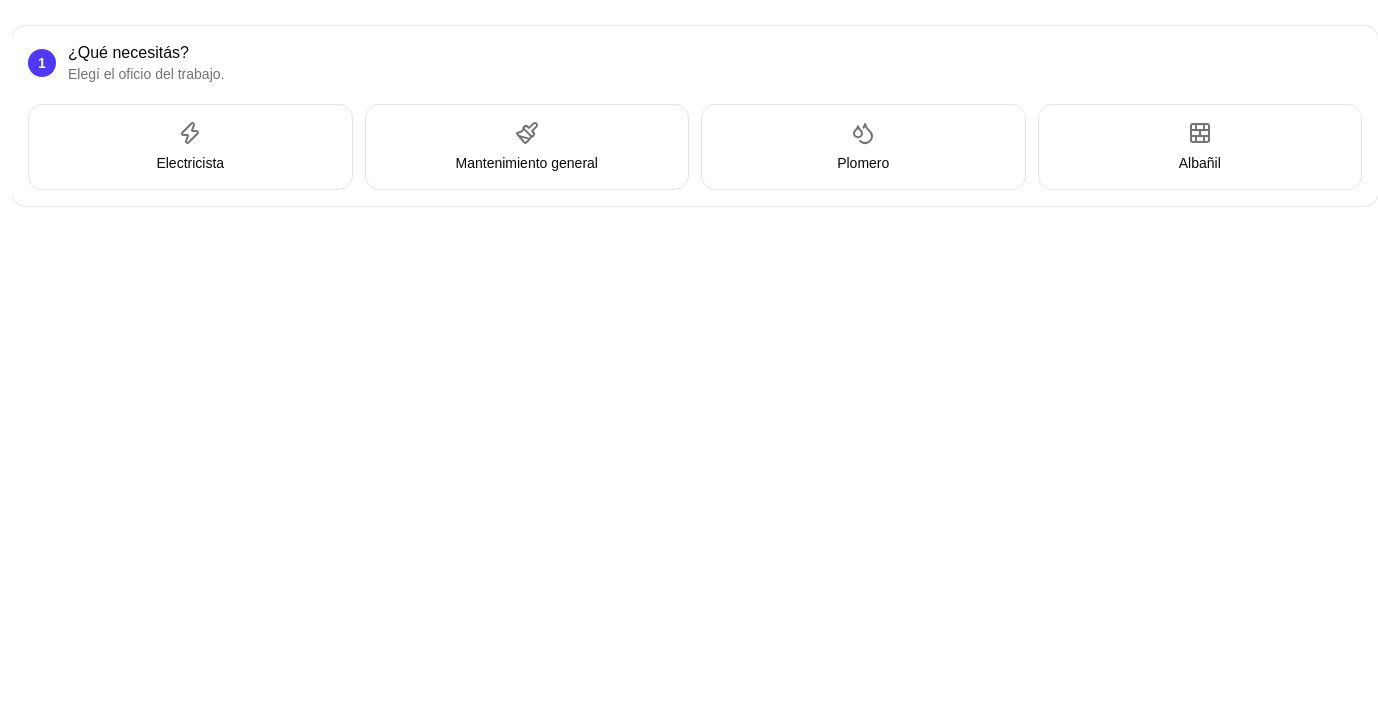
Test case: Booking › explains when the slot was taken in the meantime, and reloads the slots
The width and height of the screenshot is (1378, 710).
Click the button "Plomero" at (863, 147), box 701,104 -> 1026,190
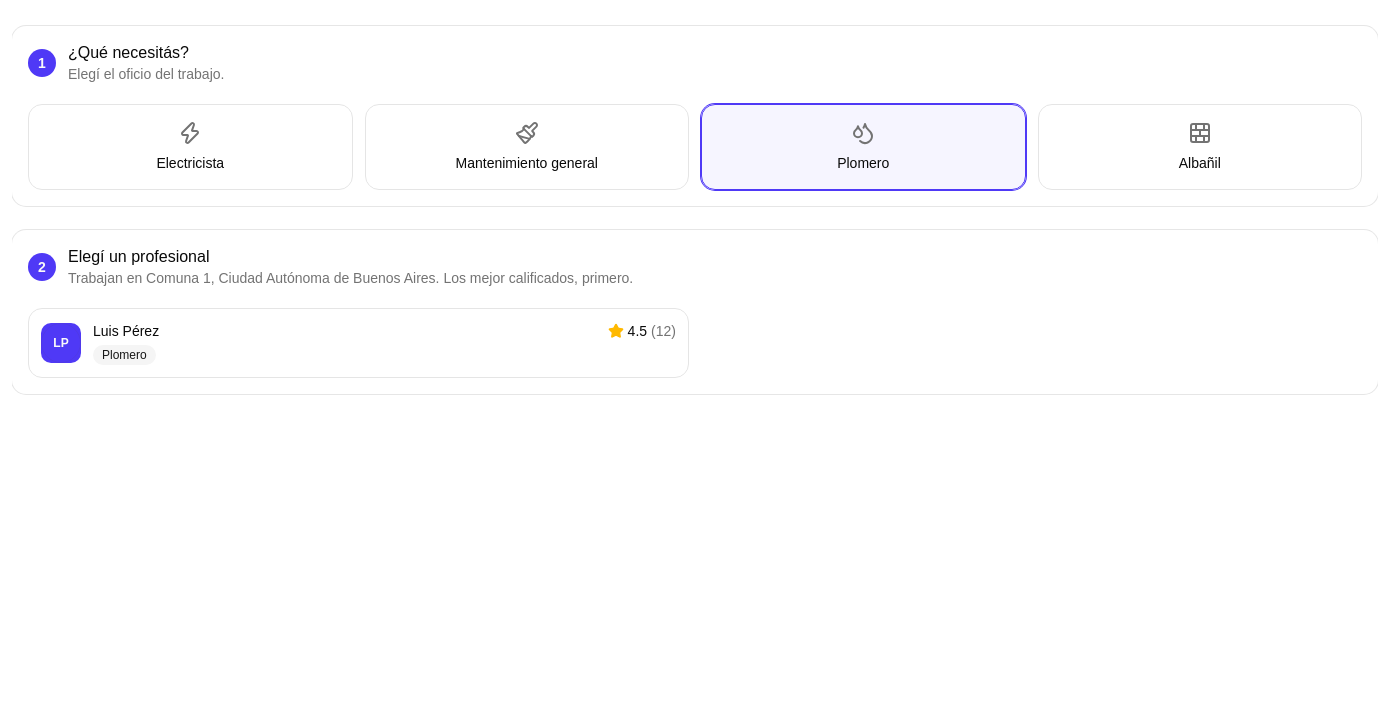
Click the button "LP Luis Pérez 4.5 (12) Plomero" at (61, 343), box 28,308 -> 689,378
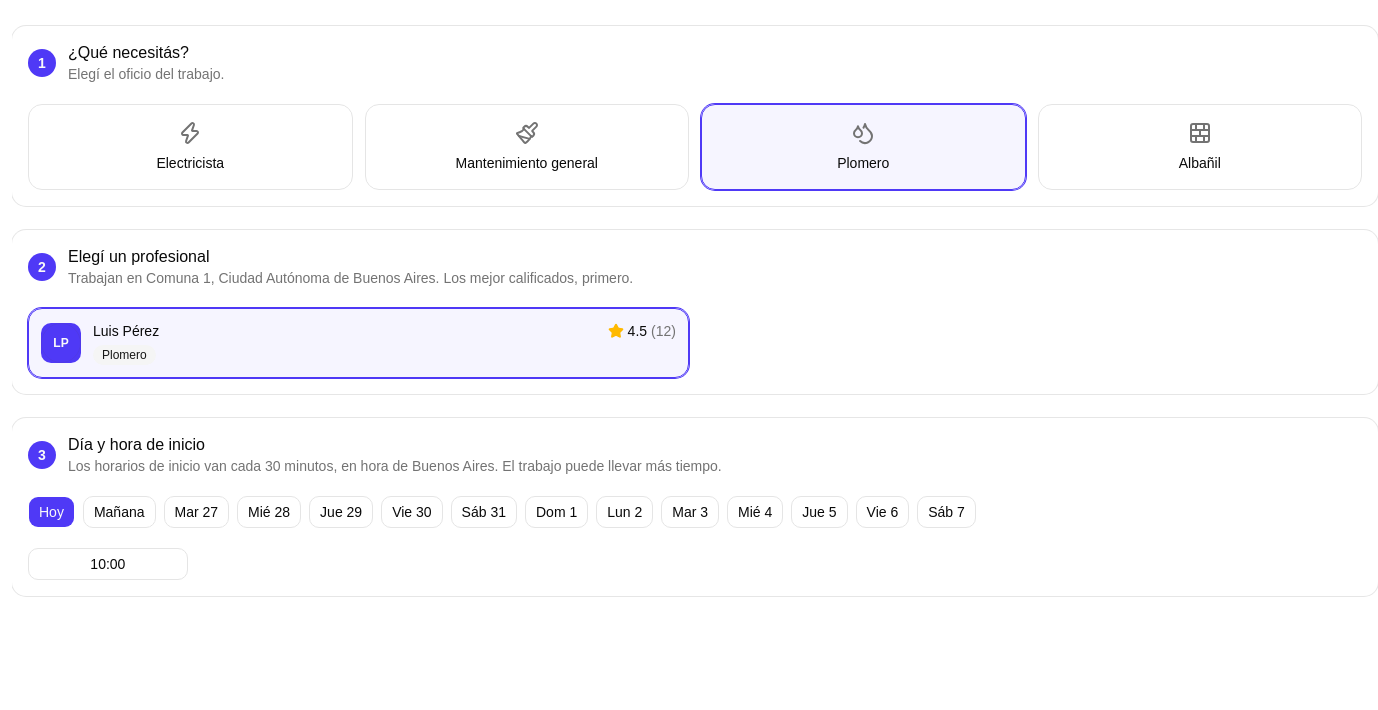
Click the button "10:00" at (108, 564), box 28,548 -> 188,580
(page scrolled)
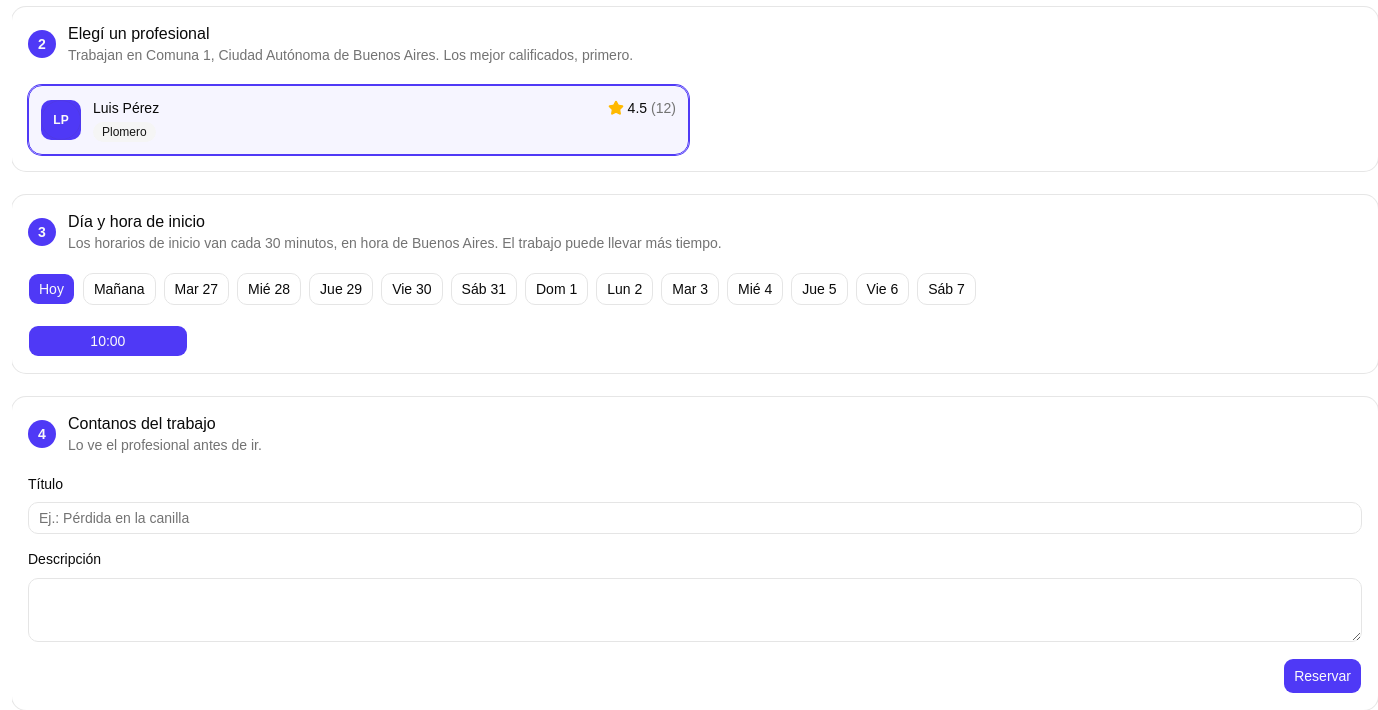
Type "Pérdida en la canilla" into the field labelled "Título" at (695, 518), box 28,502 -> 1362,534
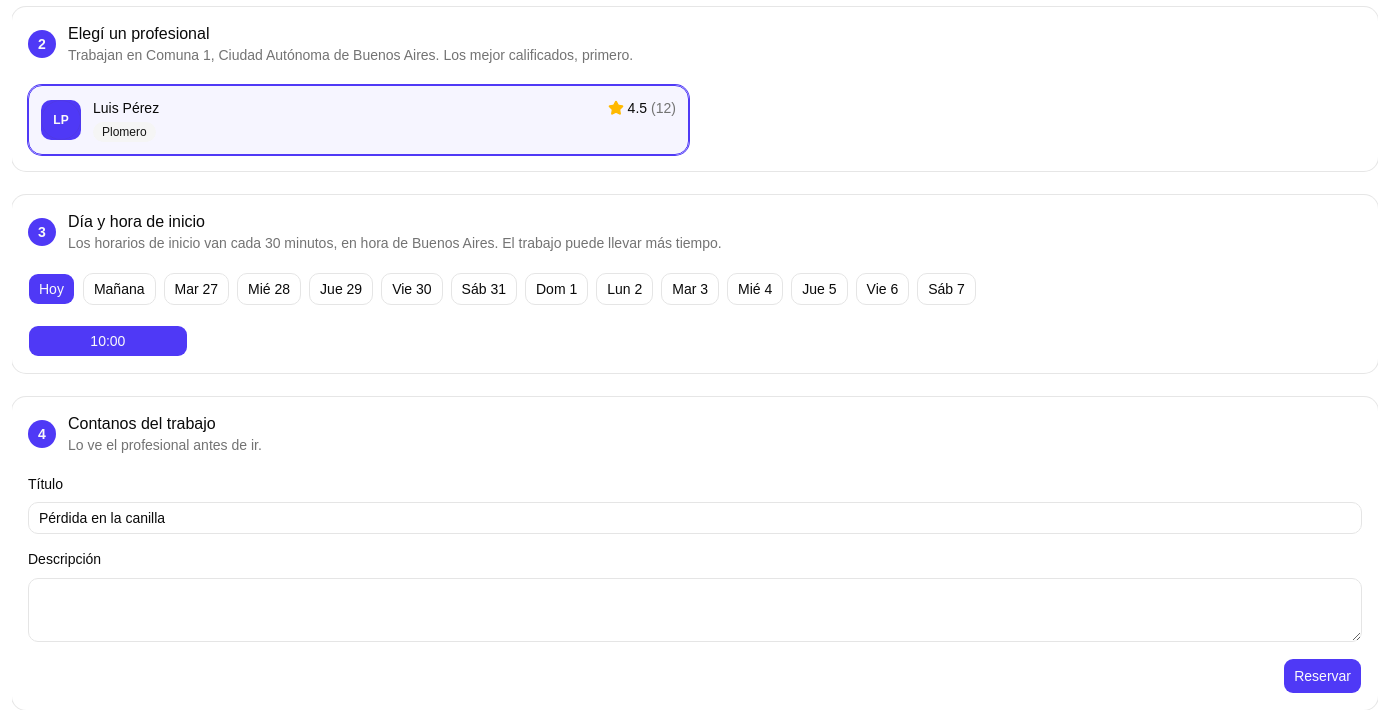
Type "Gotea la canilla de la cocina" into the text box labelled "Descripción" at (695, 610), box 28,578 -> 1362,642
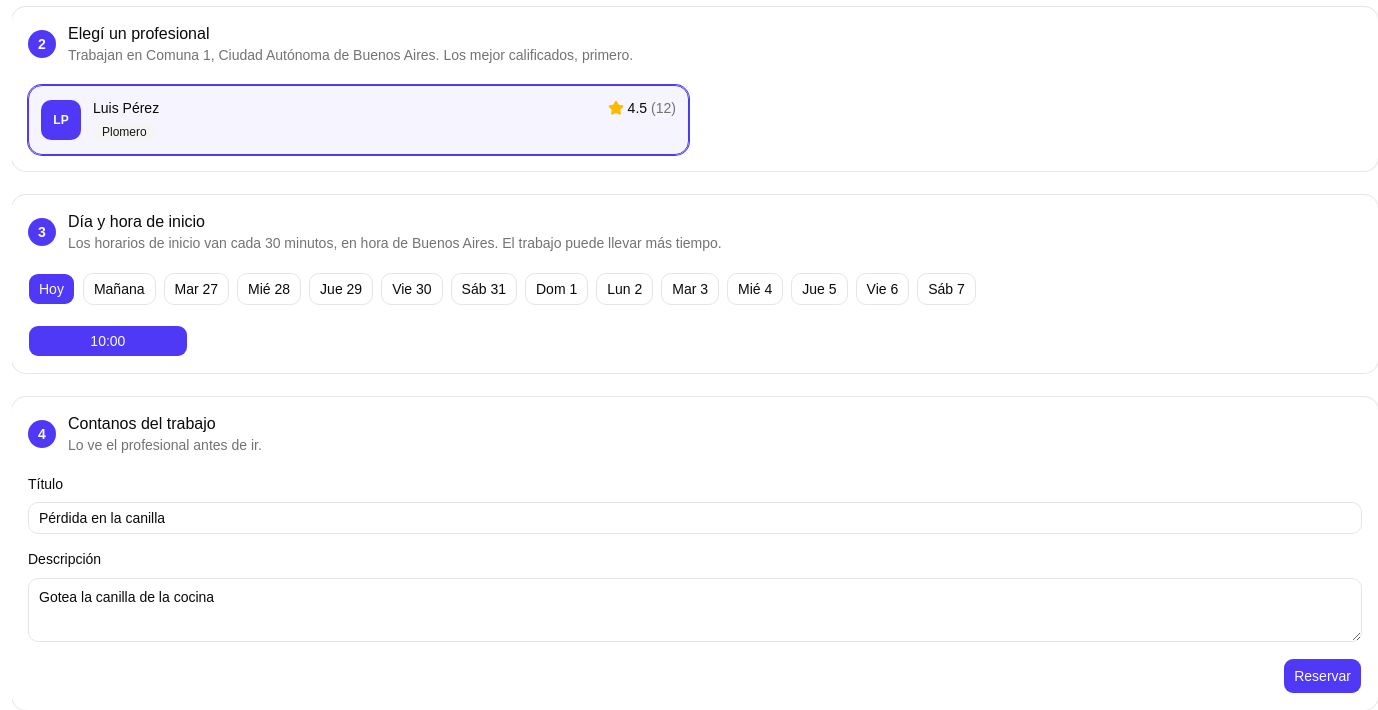
Click the button "Reservar" at (1323, 676), box 1283,658 -> 1362,694
(page scrolled)
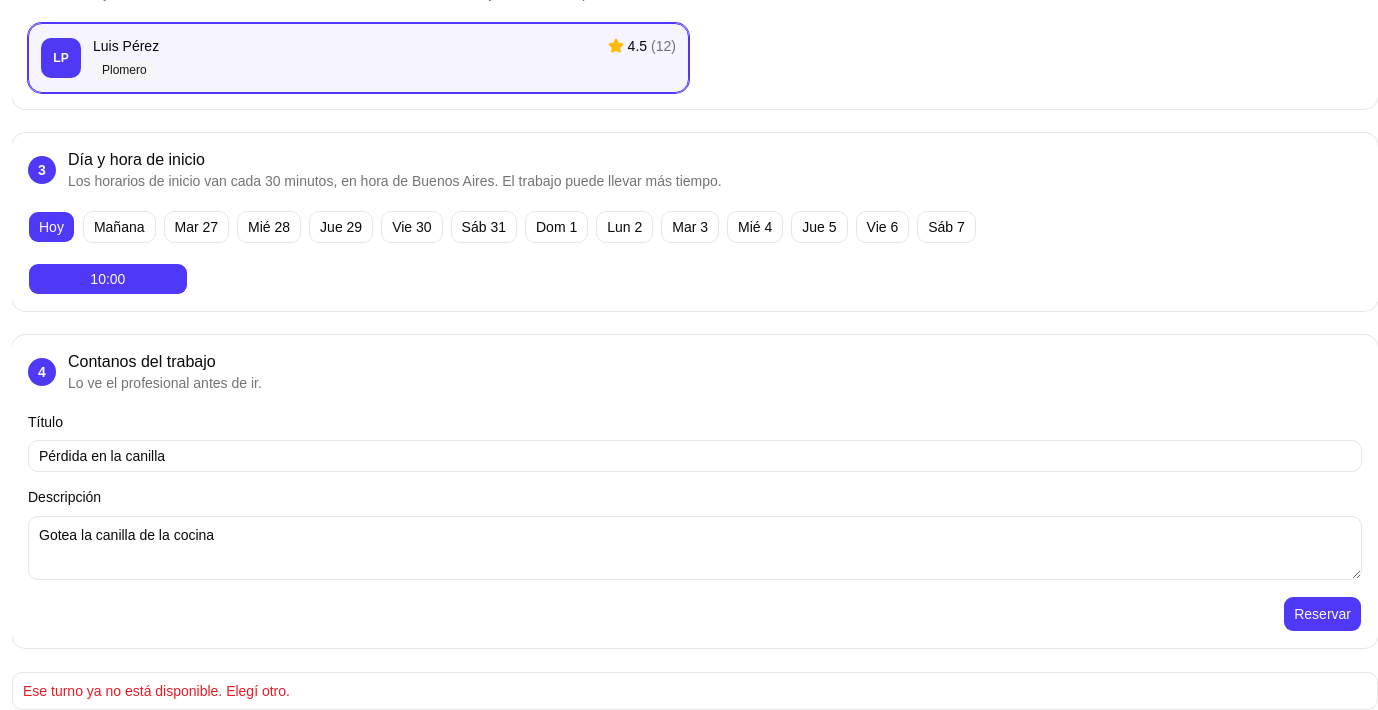
Expected: the message shows "Ese turno ya no está disponible", 23,682 -> 290,698
